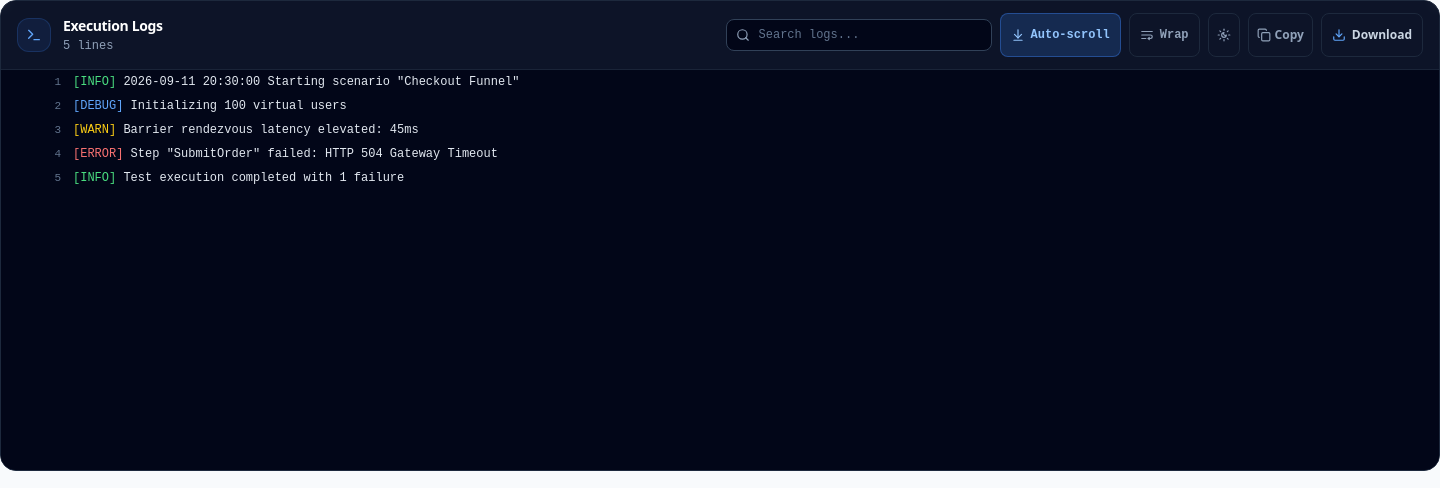
Test case: VirtualizedLogViewer › copies logs to clipboard when copy button is clicked
Click the button with aria-label "copy logs": [1280, 35] box [1248,13,1313,57]
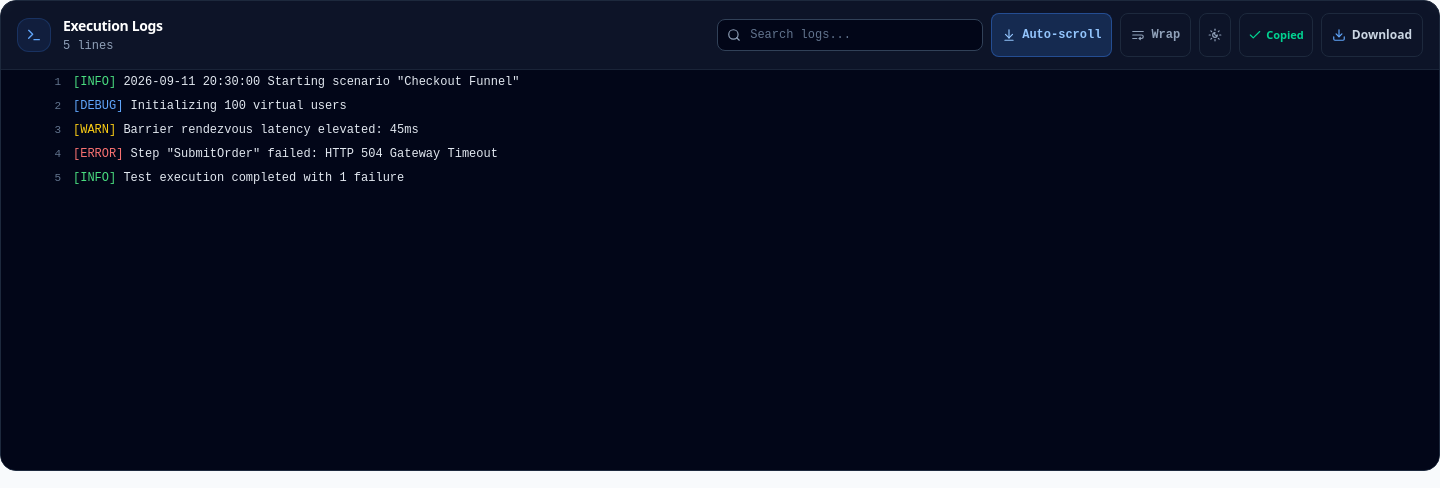
Expected: the text "Copied" is shown, [1266,28,1304,42]
